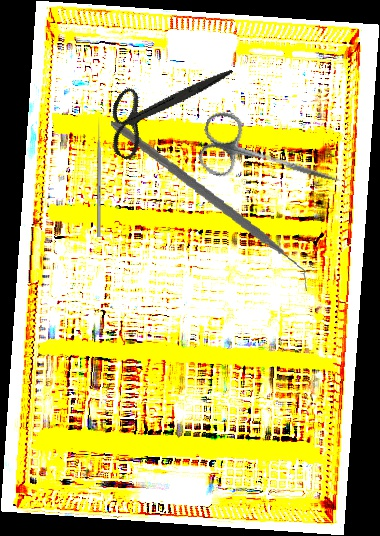Chopper: (95, 121, 323, 291)
Iris Scissors: (93, 28, 234, 185), (192, 107, 350, 210)
Pusher: (97, 117, 101, 237)
